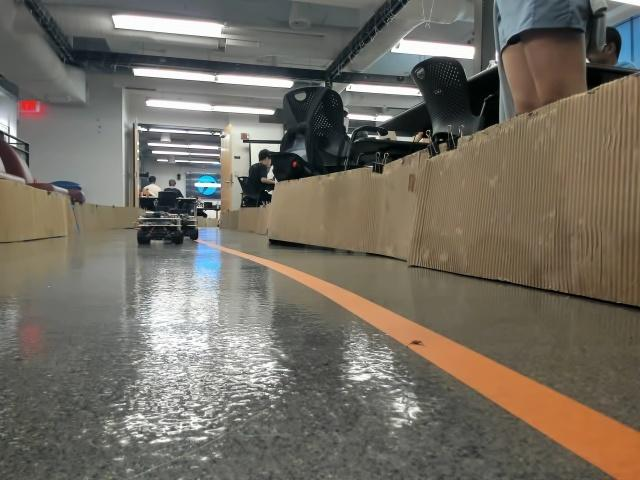Car: (135, 207, 184, 246)
